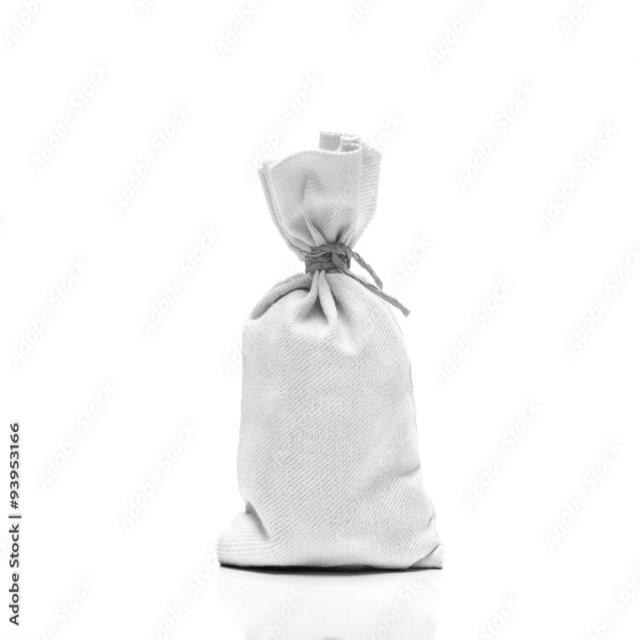sack: (216, 129, 442, 569)
